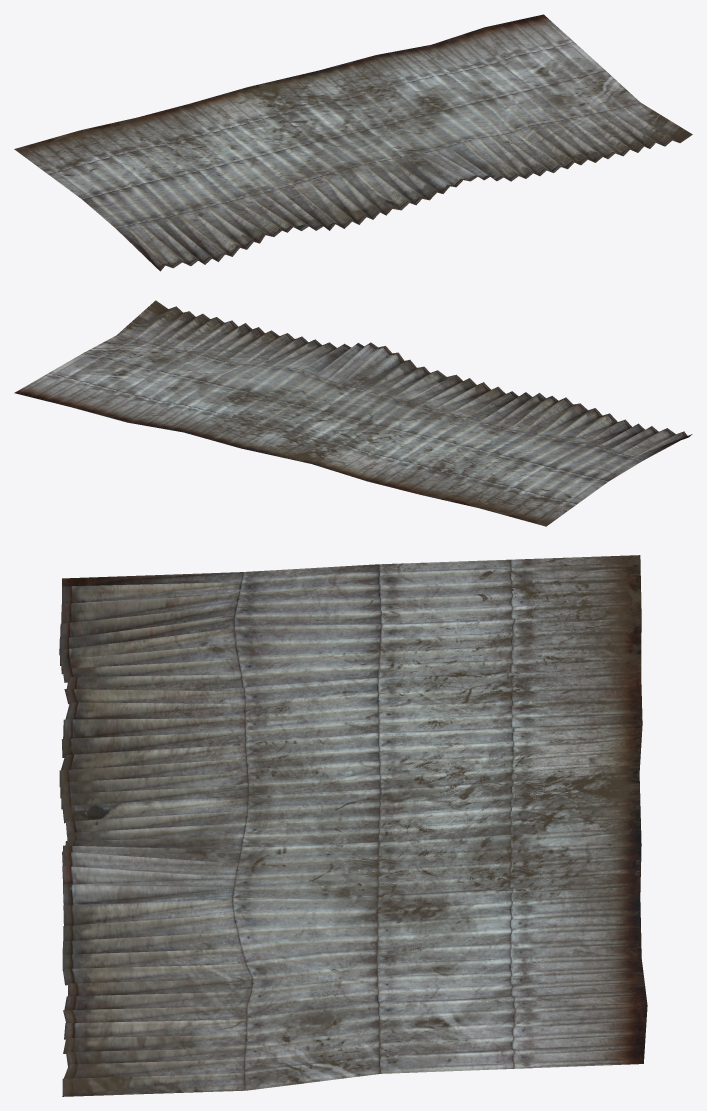
The model's file is Light_Sheet.FBX.
The picture shows the model from 3 angles, top to bottom: view 1: azimuth 30°, elevation 25°; view 2: azimuth 150°, elevation 25°; view 3: azimuth 270°, elevation 25°; orthographic projection. The views are drawn at different scales.
Visible parts, largest first — view 1: Light_Sheet; view 2: Light_Sheet; view 3: Light_Sheet.
Boxes of the visible parts, x1,y1,x2,y2 form: Light_Sheet: [14, 14, 692, 271]; Light_Sheet: [14, 300, 692, 526]; Light_Sheet: [59, 555, 647, 1096].
Size of the model in its own units: 564 by 27.08 by 268.
1 material, 1 textured.
